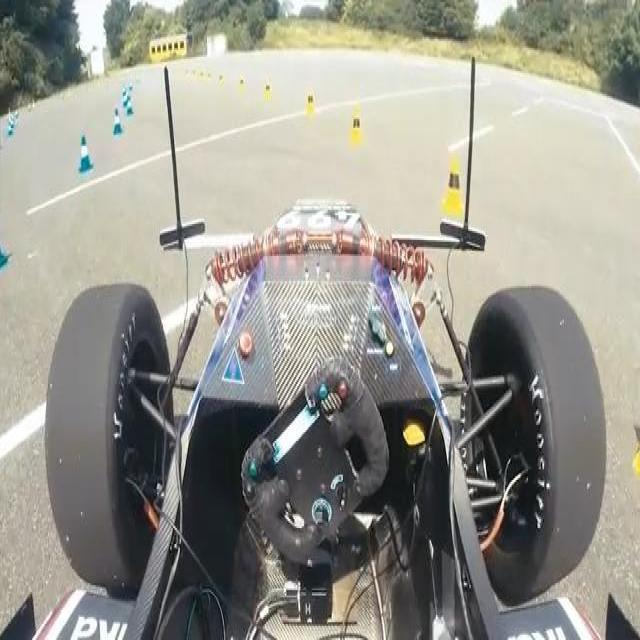blue_cone: (68, 126, 101, 175), (104, 100, 126, 145)
yellow_cone: (431, 138, 474, 222), (342, 107, 369, 148), (303, 78, 314, 147), (258, 71, 281, 102)
